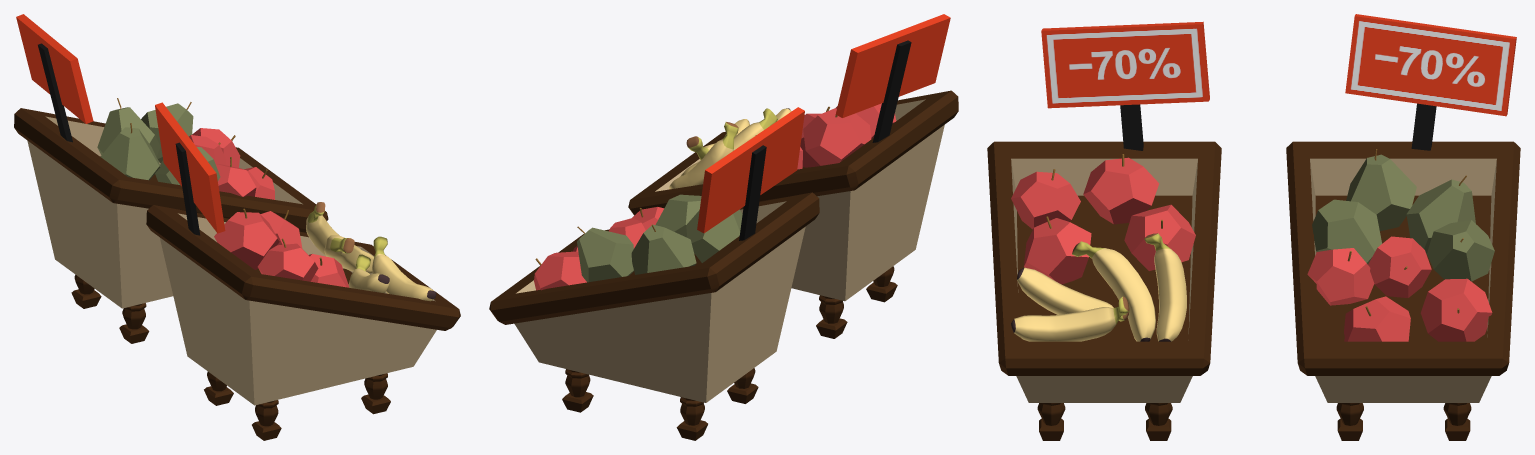
Rendered from DECO_FRUIT SHELVES.fbx.
3 renders of one model, left to right at view 1: azimuth 30°, elevation 25°; view 2: azimuth 150°, elevation 25°; view 3: azimuth 270°, elevation 25°, orthographic. The views are drawn at different scales.
Parts seen in each view (by area): view 1: pCube42, pCube43, pCube44, pCube41, polySurface2, pPlatonic7, polySurface4, pCube38, pPlatonic8, pCube1, polySurface9, pCube40 (+8 smaller); view 2: pCube43, pCube42, pCube41, pCube44, polySurface2, pPlatonic9, pPlatonic8, pPlatonic7, polySurface6, pCube39, pPlatonic10, pCube1 (+2 smaller); view 3: pCube42, pCube43, pCube44, pCube41, polySurface6, polySurface2, pPlatonic7, pPlatonic9, polySurface3, pPlatonic10, pCube1, pCube38 (+8 smaller).
Boxes of the visible parts, bbox=[...] form: pCube42: bbox=[146, 205, 460, 440]; pCube43: bbox=[14, 108, 328, 343]; pCube44: bbox=[16, 14, 93, 142]; pCube41: bbox=[155, 102, 225, 235]; polySurface2: bbox=[214, 208, 279, 269]; pPlatonic7: bbox=[100, 123, 160, 180]; polySurface4: bbox=[257, 238, 318, 281]; pCube38: bbox=[372, 236, 436, 301]; pPlatonic8: bbox=[97, 98, 160, 156]; pCube1: bbox=[324, 235, 373, 273]; polySurface9: bbox=[215, 157, 256, 196]; pCube40: bbox=[348, 254, 389, 293]; pCube43: bbox=[489, 192, 819, 440]; pCube42: bbox=[628, 90, 958, 338]; pCube41: bbox=[835, 14, 950, 142]; pCube44: bbox=[697, 107, 804, 240]; polySurface2: bbox=[803, 108, 871, 165]; pPlatonic9: bbox=[577, 226, 633, 282]; pPlatonic8: bbox=[631, 224, 696, 274]; pPlatonic7: bbox=[686, 209, 742, 262]; polySurface6: bbox=[534, 251, 586, 290]; pCube39: bbox=[669, 122, 738, 189]; pPlatonic10: bbox=[655, 194, 701, 253]; pCube1: bbox=[680, 108, 777, 176]; pCube42: bbox=[987, 141, 1221, 440]; pCube43: bbox=[1286, 141, 1520, 440]; pCube44: bbox=[1345, 14, 1516, 150]; pCube41: bbox=[1041, 21, 1209, 150]; polySurface6: bbox=[1420, 278, 1492, 341]; polySurface2: bbox=[1083, 154, 1159, 224]; pPlatonic7: bbox=[1346, 149, 1416, 231]; pPlatonic9: bbox=[1427, 220, 1494, 281]; polySurface3: bbox=[1024, 216, 1091, 284]; pPlatonic10: bbox=[1312, 199, 1382, 264]; pCube1: bbox=[1072, 241, 1155, 341]; pCube38: bbox=[1011, 296, 1129, 341].
Size of the model in its own units: 5.55 by 6.62 by 9.62.
6 materials, 6 textured.
